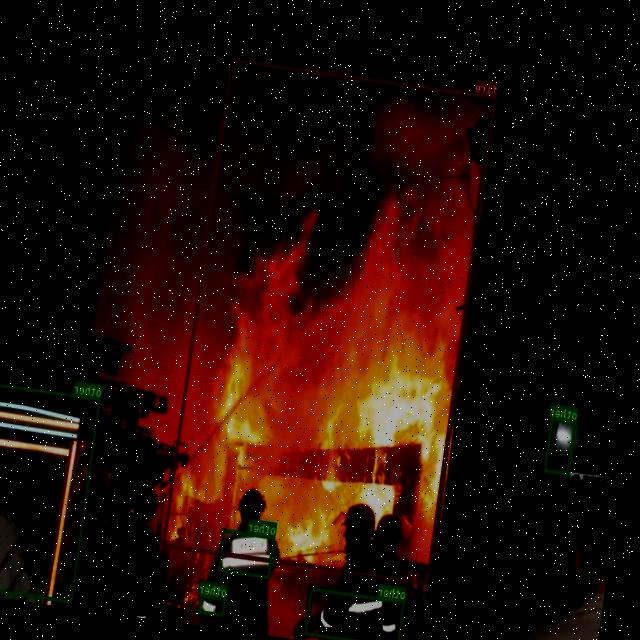fire: (163, 58, 498, 584)
